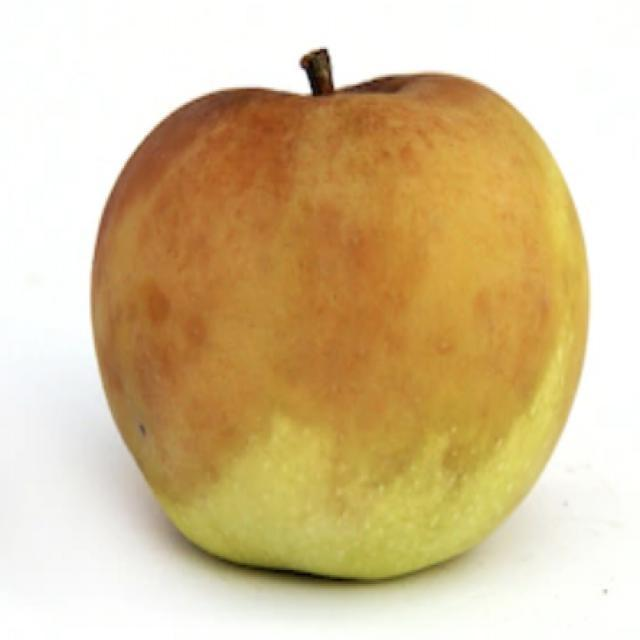Rotten: (94, 74, 574, 588)
